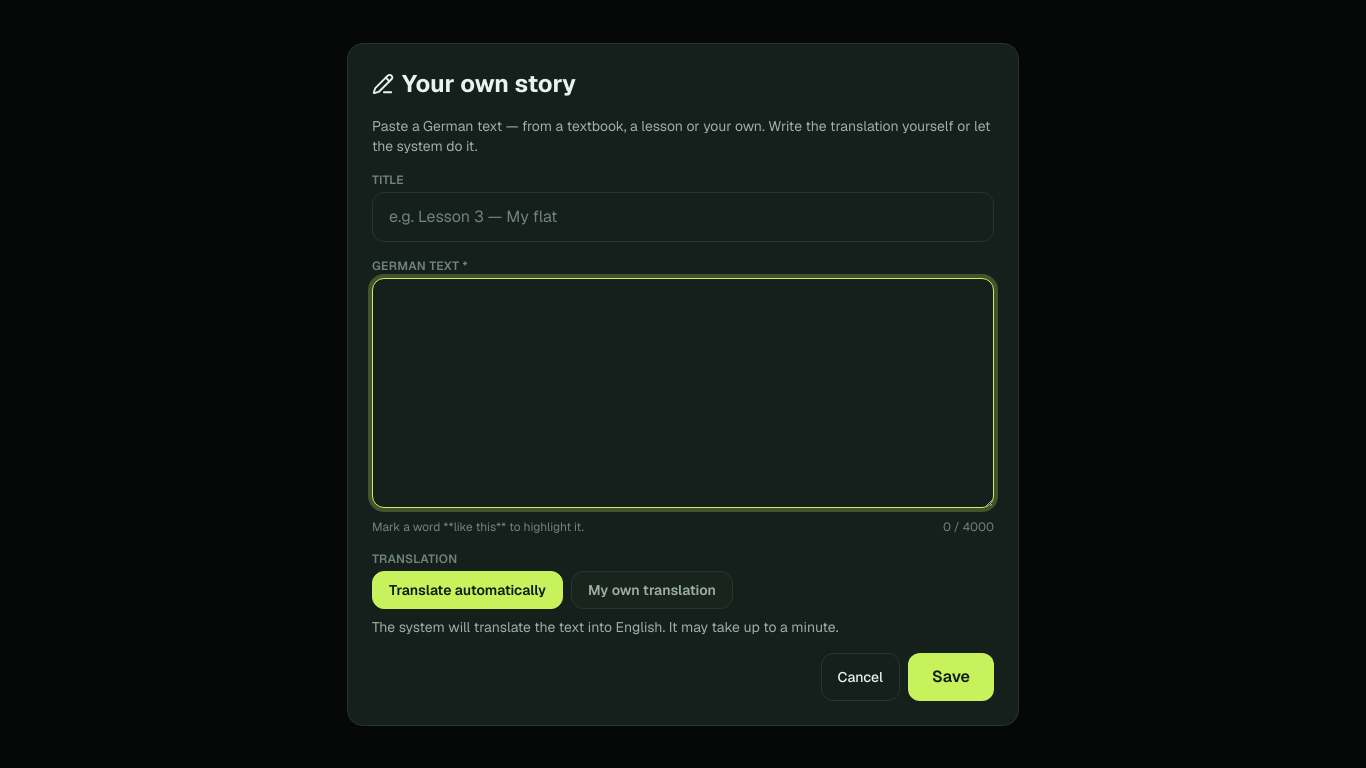
StoryFormModal: create › Cyrillic text → the Cyrillic error, nothing is sent
Type "Это русский текст, а не немецкий." into the text box labelled "German text *" at (683, 392), box [372,278,994,508]
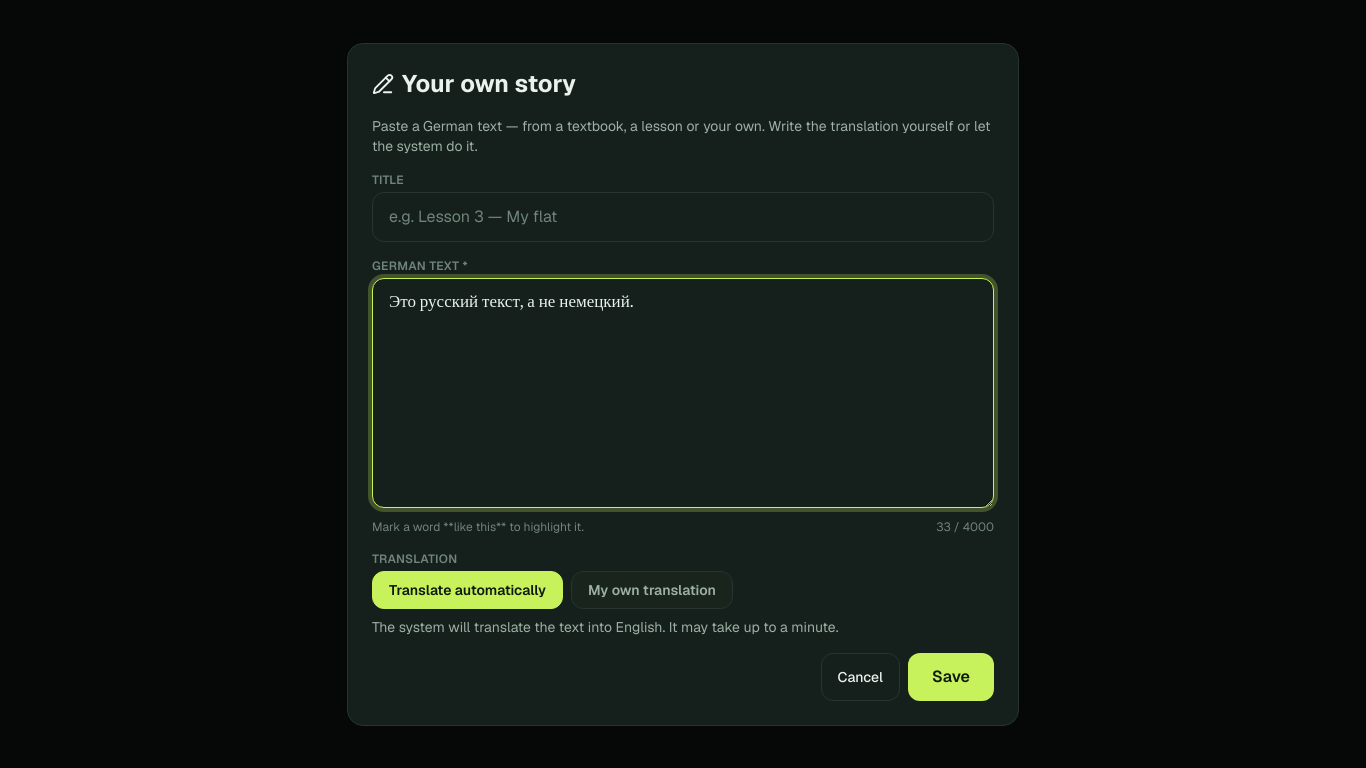
Click the button "Save" at (951, 676), box [908,652,994,700]
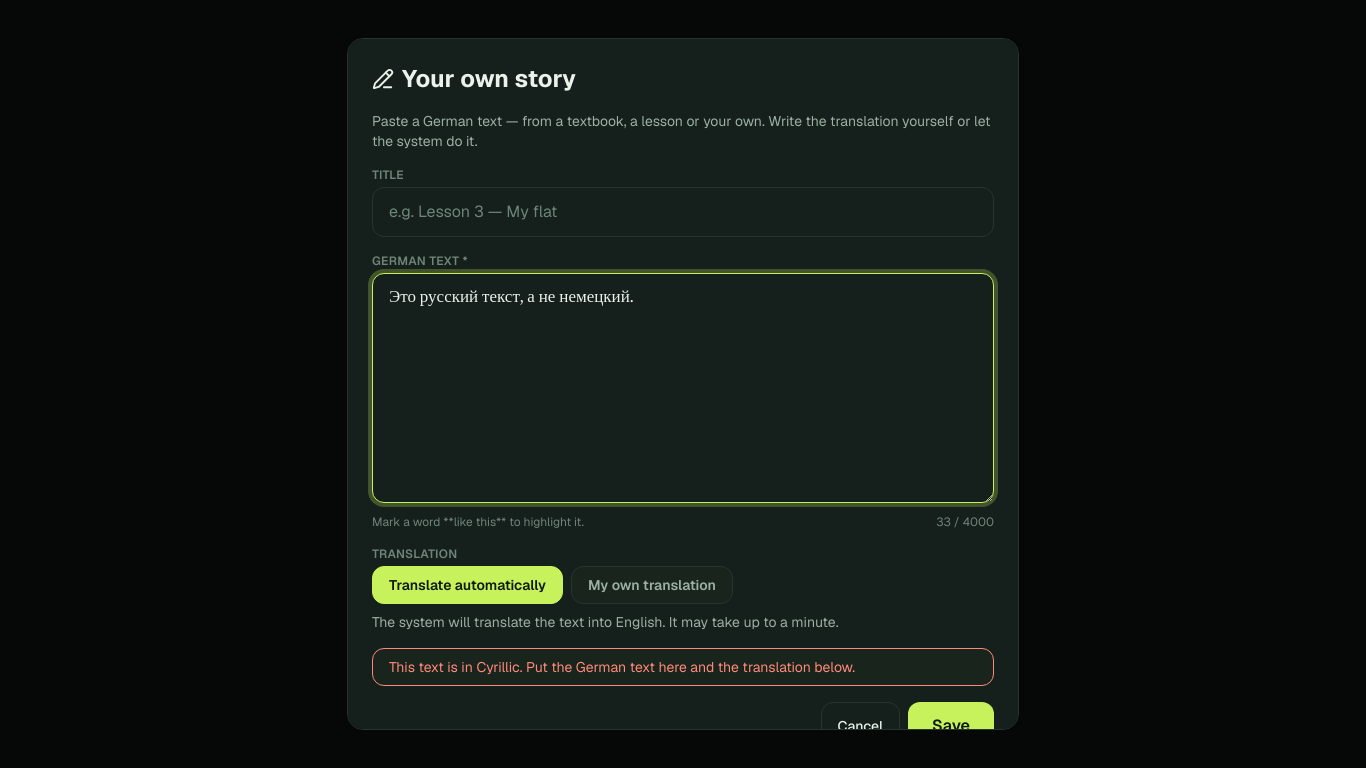
Check: the text "This text is in Cyrillic. Put the German text here and the translation below." is shown, box [372,648,994,686]
